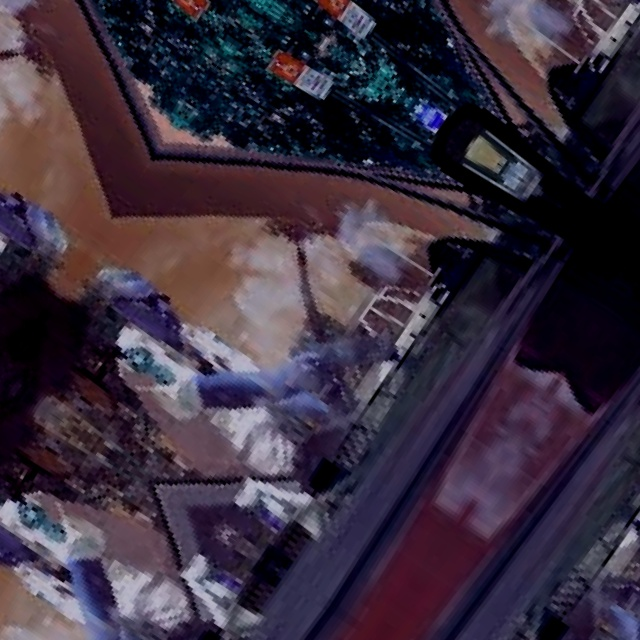ISA: (269, 54, 300, 81), (175, 0, 205, 16), (317, 0, 348, 11)
